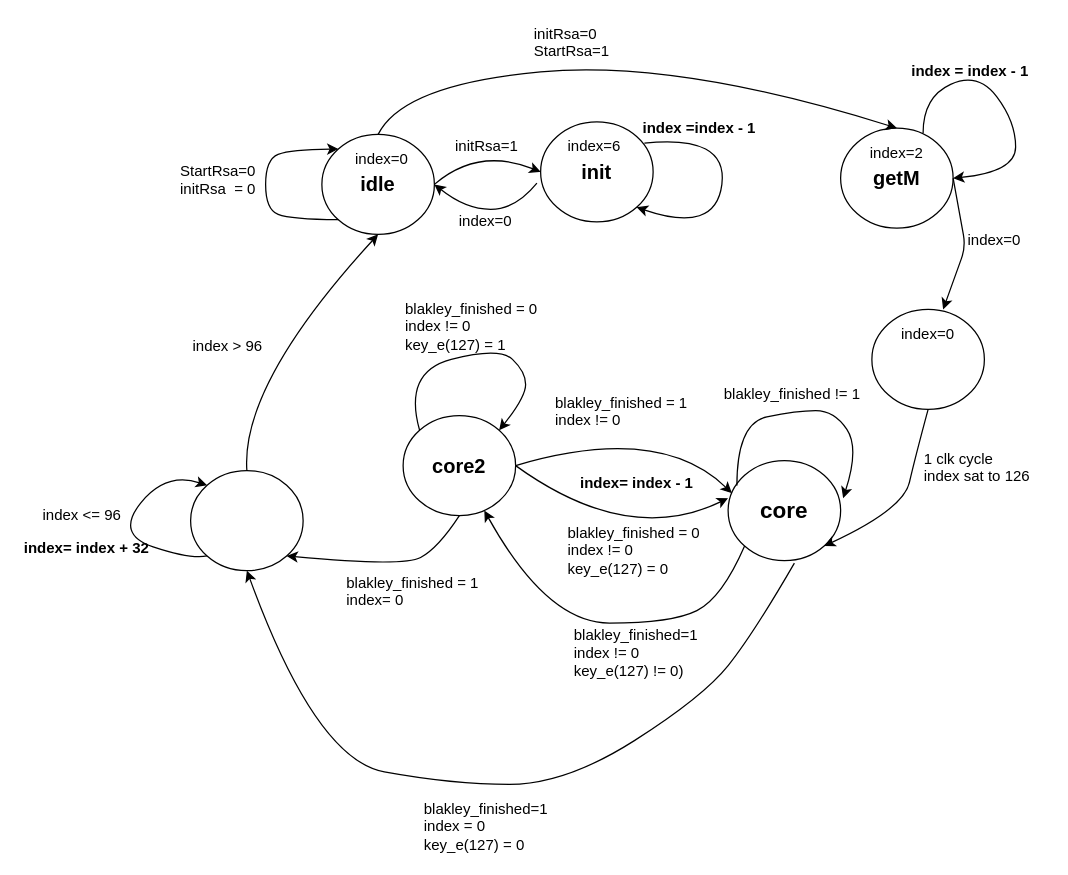
This 1068x875 diagram has some shape labels left out. Each missing label, with the box of its shape:
core_start: (871, 308, 984, 409)
output_result: (189, 469, 303, 571)
